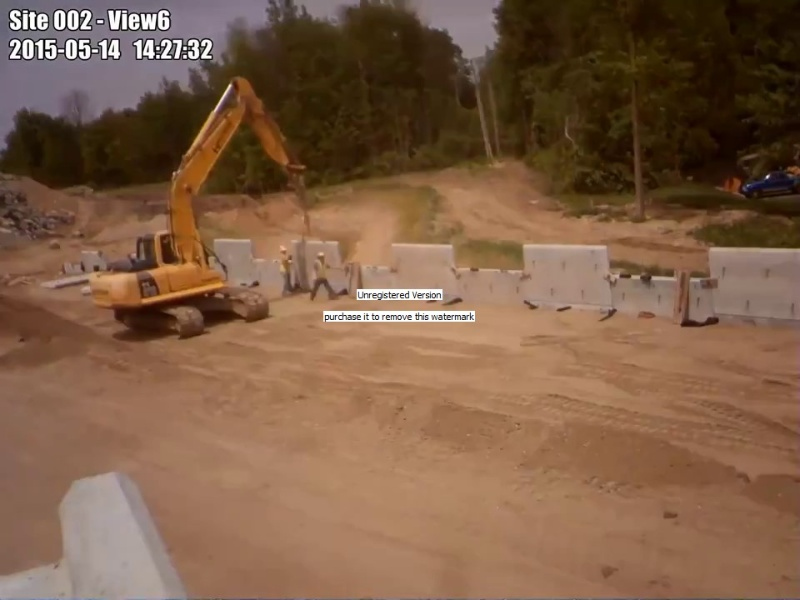excavator: (87, 76, 308, 340)
hardhat: (280, 245, 288, 251), (317, 251, 325, 256)
person: (311, 252, 340, 300), (277, 243, 295, 293)
truck: (737, 171, 800, 200)
wall: (209, 235, 800, 327)
wood: (670, 268, 691, 329)
